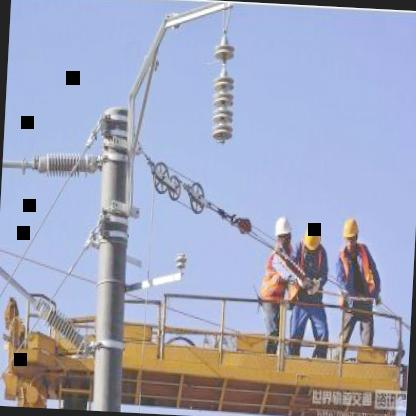helmet: (300, 218, 324, 258), (272, 212, 294, 252), (339, 212, 360, 253)
